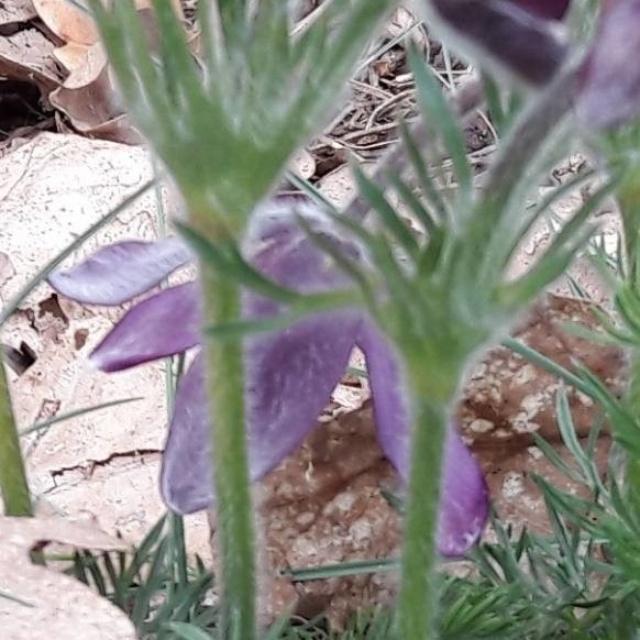obstacle: (118, 22, 607, 602)
